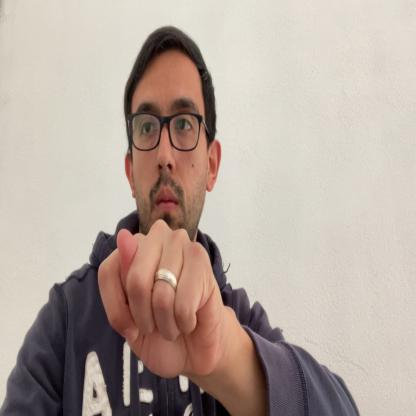T: (97, 218, 222, 382)
